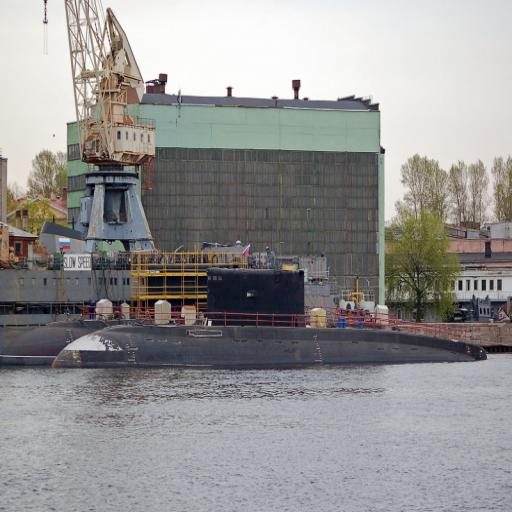submarine: (56, 266, 486, 370), (2, 299, 185, 363)
